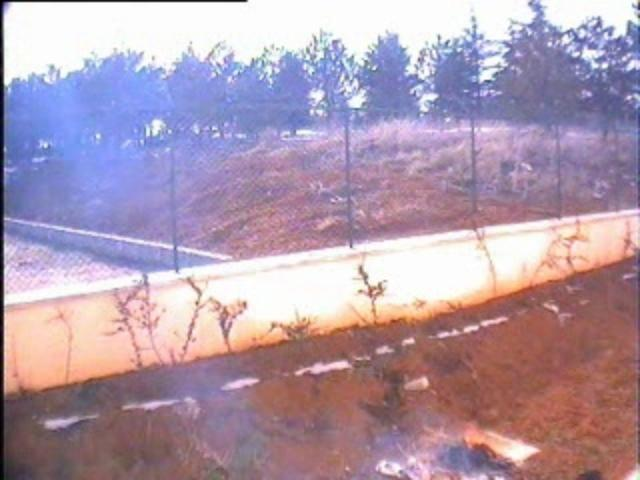fire: (370, 428, 472, 480), (464, 420, 522, 466)
smoke: (12, 60, 184, 228), (170, 358, 270, 470)
